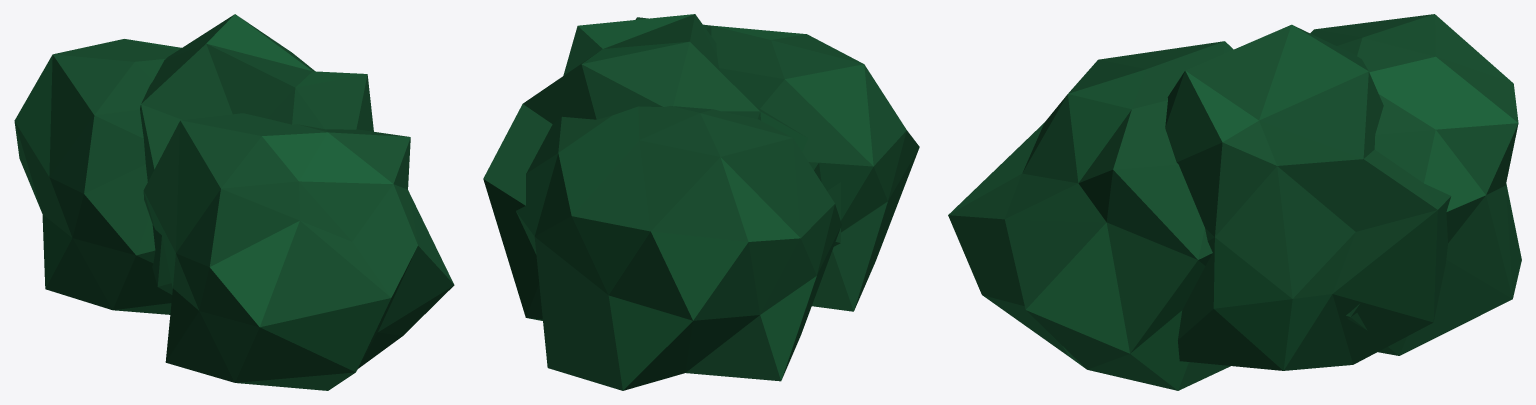
Rendered from Bush.glb.
The picture shows the model from 3 angles, left to right: view 1: azimuth 30°, elevation 25°; view 2: azimuth 150°, elevation 25°; view 3: azimuth 270°, elevation 25°; orthographic projection. The views are drawn at different scales.
Parts seen in each view (by area): view 1: Icosphere.001, Icosphere; view 2: Icosphere, Icosphere.001; view 3: Icosphere.001, Icosphere.
Boxes of the visible parts, x1,y1,x2,y2 form: Icosphere.001: [140, 14, 454, 390]; Icosphere: [14, 39, 181, 314]; Icosphere: [516, 106, 841, 390]; Icosphere.001: [483, 14, 919, 320]; Icosphere.001: [948, 24, 1451, 390]; Icosphere: [1310, 14, 1521, 355].
Size of the model in its own units: 3.93 by 3.79 by 6.18.
